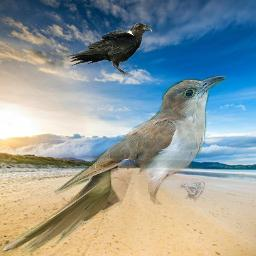Crow: (66, 22, 153, 76)
Cuckoo: (1, 75, 227, 255)
